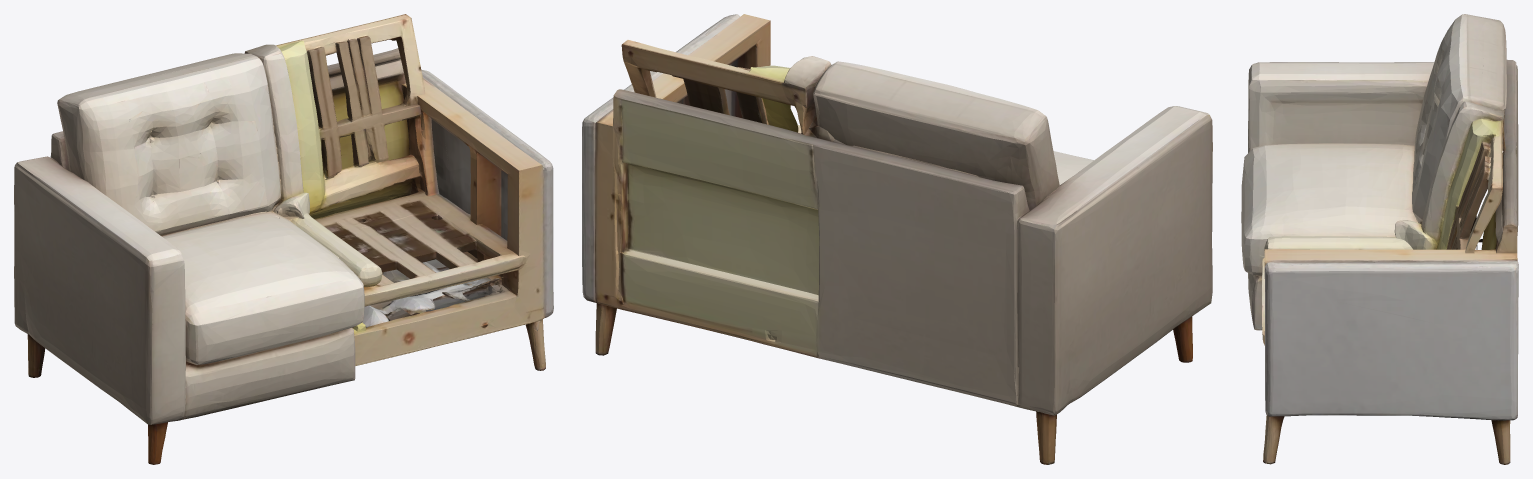
Rendered from The_unfinished_sofa_compressed.glb.
3 renders of one model, left to right at view 1: azimuth 30°, elevation 25°; view 2: azimuth 150°, elevation 25°; view 3: azimuth 270°, elevation 25°, orthographic. The views are drawn at different scales.
Parts seen in each view (by area): view 1: geometry_0; view 2: geometry_0; view 3: geometry_0.
Boxes of the visible parts, x1,y1,x2,y2 form: geometry_0: (14, 14, 553, 464); geometry_0: (582, 14, 1212, 464); geometry_0: (1241, 14, 1518, 464).
Bounding box in the file's own units: 0.6949 × 0.4525 × 0.4083.
Materials: 1 (1 with a texture image).
